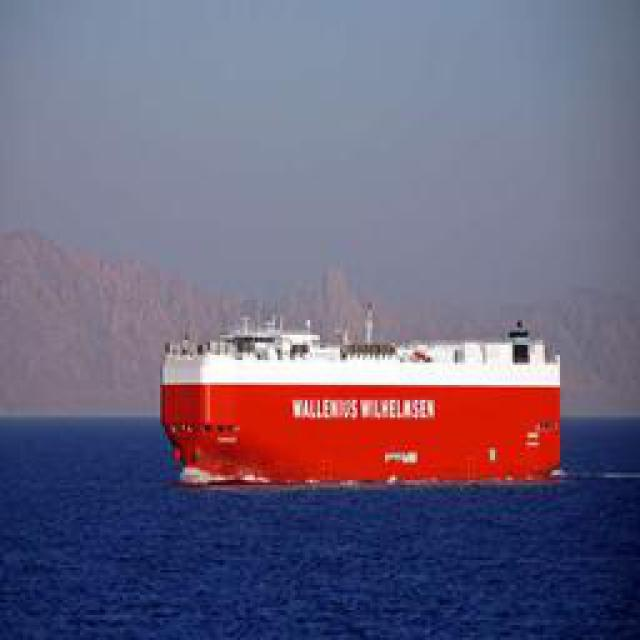Ship: (157, 317, 567, 485)
